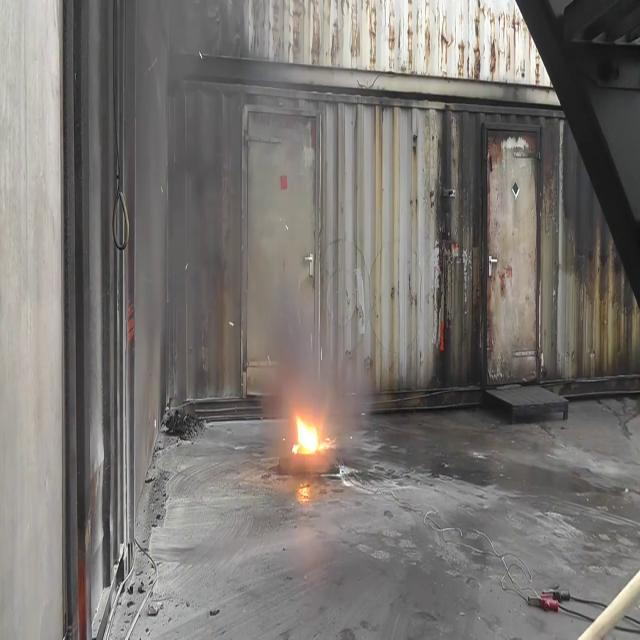Fire: (290, 406, 330, 462)
Smoke: (254, 278, 322, 397)
